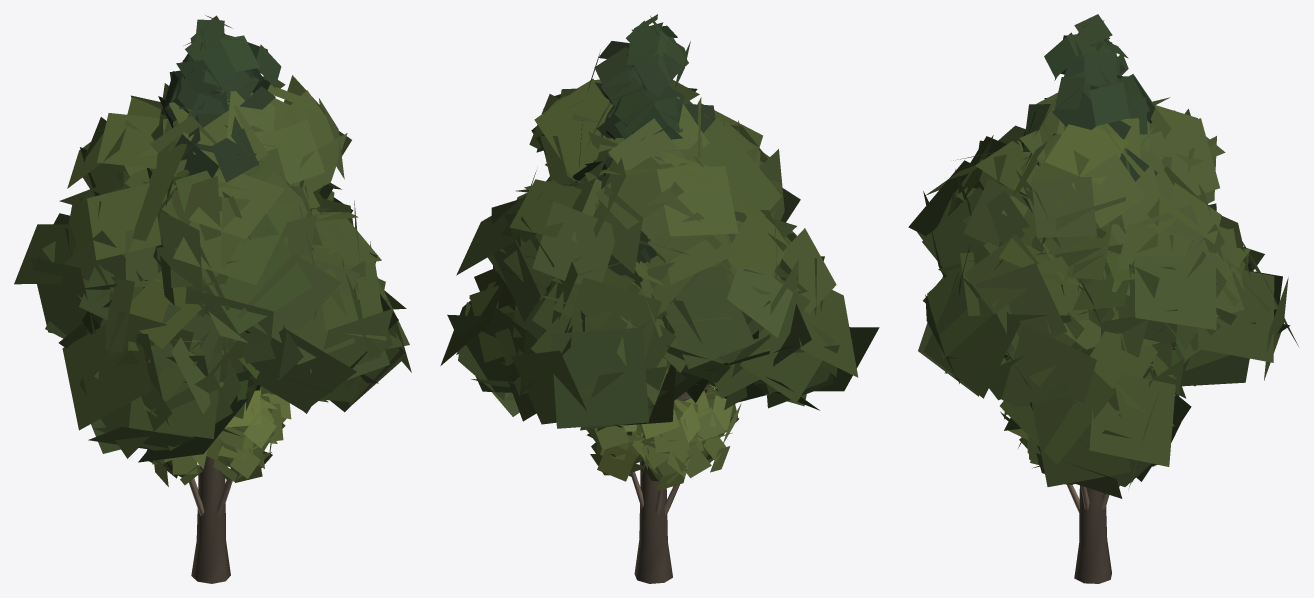
The model's file is trees.glb.
3 views of the same model, side by side, from view 1: azimuth 30°, elevation 25°; view 2: azimuth 150°, elevation 25°; view 3: azimuth 270°, elevation 25° (orthographic).
Visible parts, largest first — view 1: tree_redoak_lod0, tree_oak_lod0, tree_pine_lod0, tree_myrtle_lod0, tree_sweetgum_lod0; view 2: tree_redoak_lod0, tree_oak_lod0, tree_pine_lod0, tree_myrtle_lod0; view 3: tree_redoak_lod0, tree_oak_lod0, tree_pine_lod0, tree_myrtle_lod0.
Boxes of the visible parts, left/top/right/bottom form: tree_redoak_lod0: left=14, top=122, right=411, bottom=583; tree_oak_lod0: left=59, top=75, right=388, bottom=376; tree_pine_lod0: left=143, top=15, right=311, bottom=210; tree_myrtle_lod0: left=146, top=387, right=291, bottom=516; tree_sweetgum_lod0: left=176, top=101, right=268, bottom=436; tree_redoak_lod0: left=440, top=117, right=879, bottom=583; tree_oak_lod0: left=496, top=78, right=836, bottom=373; tree_pine_lod0: left=573, top=14, right=715, bottom=275; tree_myrtle_lod0: left=586, top=384, right=741, bottom=515; tree_redoak_lod0: left=908, top=130, right=1298, bottom=583; tree_oak_lod0: left=947, top=92, right=1251, bottom=406; tree_pine_lod0: left=1021, top=14, right=1157, bottom=181; tree_myrtle_lod0: left=1000, top=411, right=1154, bottom=512.
Size of what is drawn, in the model's own units: 10.8 by 15.97 by 10.14.
